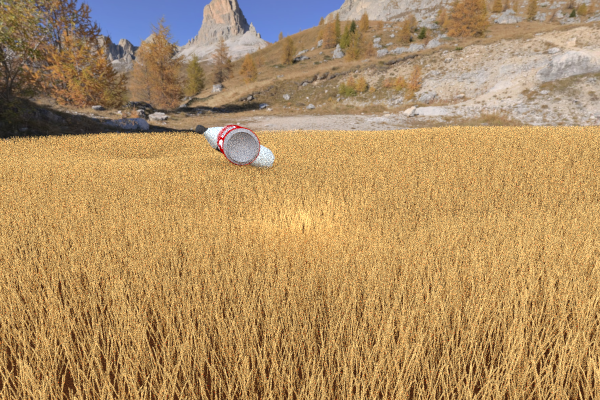Plastic Bottle: (195, 124, 274, 169), (511, 121, 578, 149), (216, 124, 260, 165)
